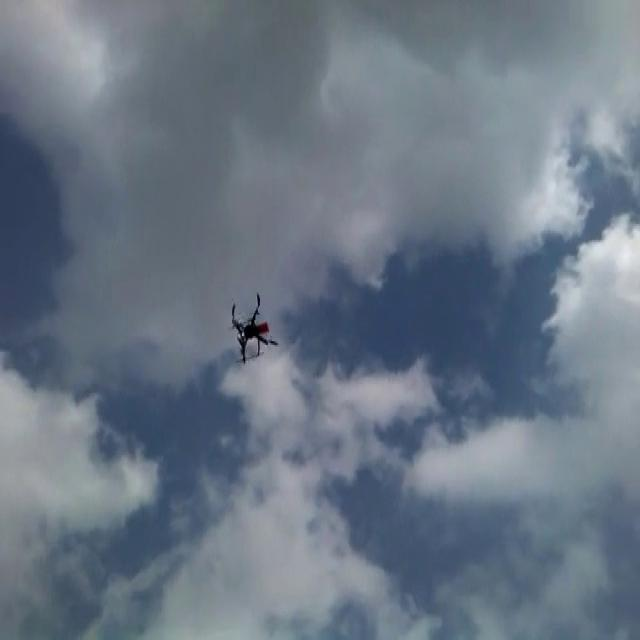drone: (230, 288, 280, 363)
